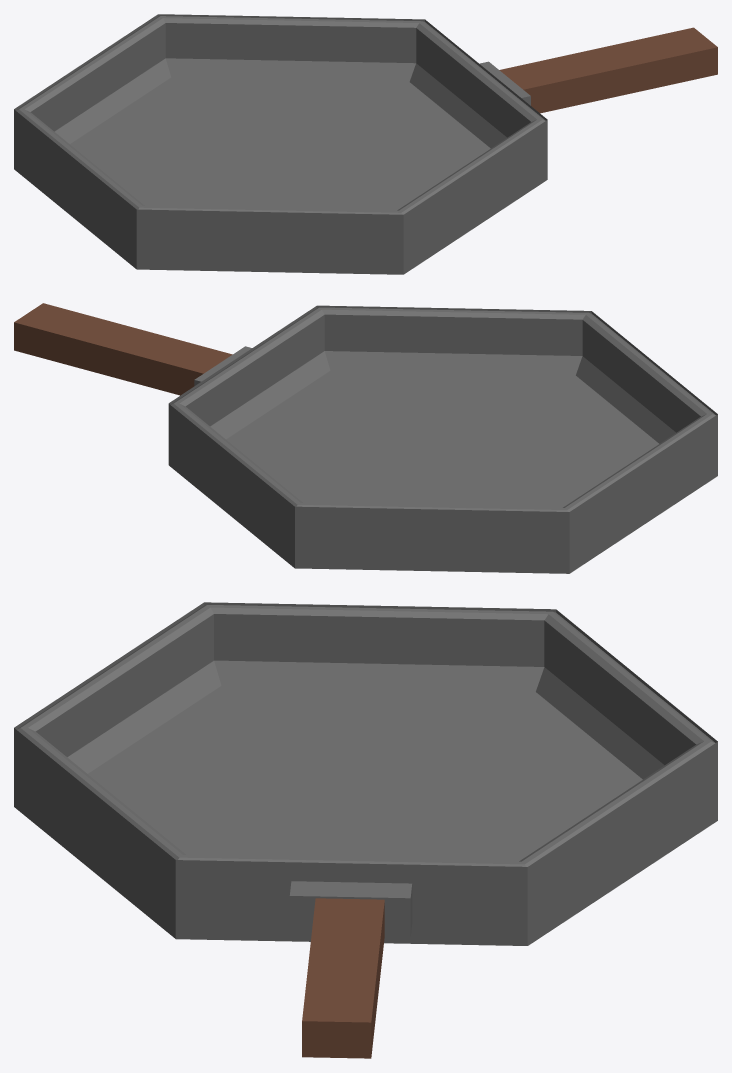
The model's file is SM_Pan.fbx.
3 views of the same model, one above another, from view 1: azimuth 30°, elevation 25°; view 2: azimuth 150°, elevation 25°; view 3: azimuth 270°, elevation 25° (orthographic). The views are drawn at different scales.
Parts seen in each view (by area): view 1: pan; view 2: pan; view 3: pan.
Part boxes in pixels (box(x1,y1,x2,y2)): pan: box(14, 14, 717, 274); pan: box(14, 303, 717, 573); pan: box(14, 602, 717, 1058).
Size of the model in its own units: 104 by 9.61 by 77.41.
